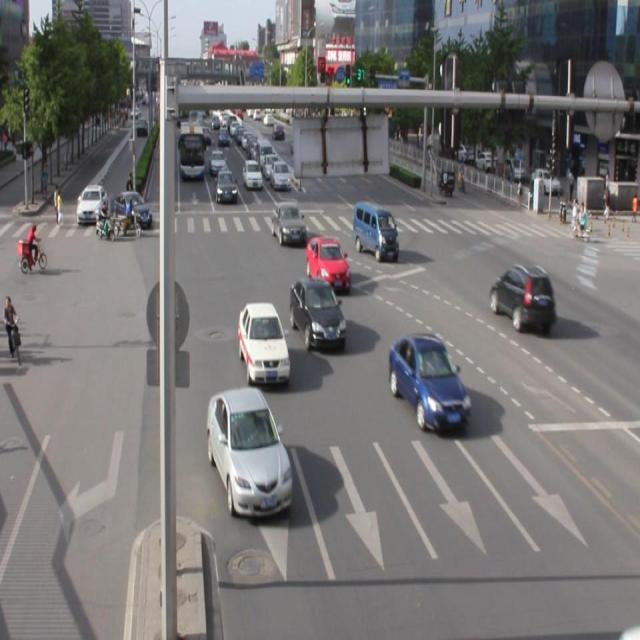car: (207, 384, 291, 514), (388, 332, 469, 428), (489, 261, 555, 328), (236, 298, 288, 382), (289, 275, 346, 348), (306, 232, 350, 290), (271, 200, 306, 242)
truck: (353, 201, 398, 259)
